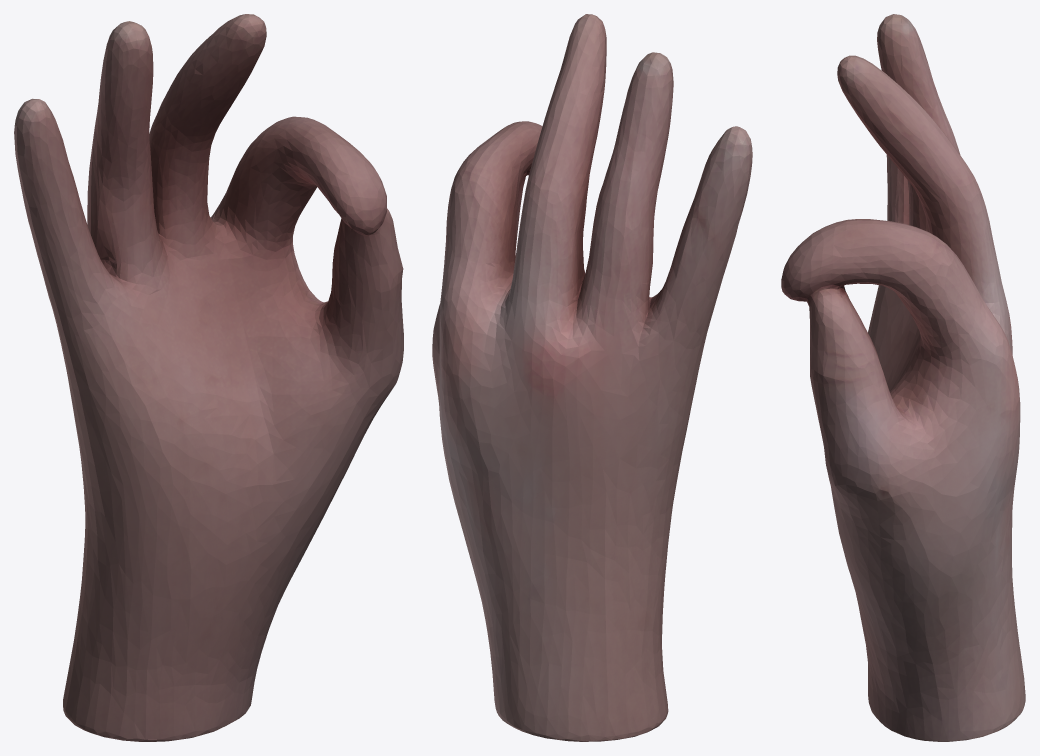
Rendered from hand_pinched.glb.
The picture shows the model from 3 angles, left to right: view 1: azimuth 30°, elevation 25°; view 2: azimuth 150°, elevation 25°; view 3: azimuth 270°, elevation 25°; orthographic projection. The views are drawn at different scales.
Visible parts, largest first — view 1: world; view 2: world; view 3: world.
Boxes of the visible parts, x1,y1,x2,y2 form: world: (14, 14, 403, 741); world: (432, 14, 752, 741); world: (781, 14, 1025, 741).
Bounding box in the file's own units: 0.5245 × 1 × 0.3326.
Materials: 1 (1 with a texture image).
